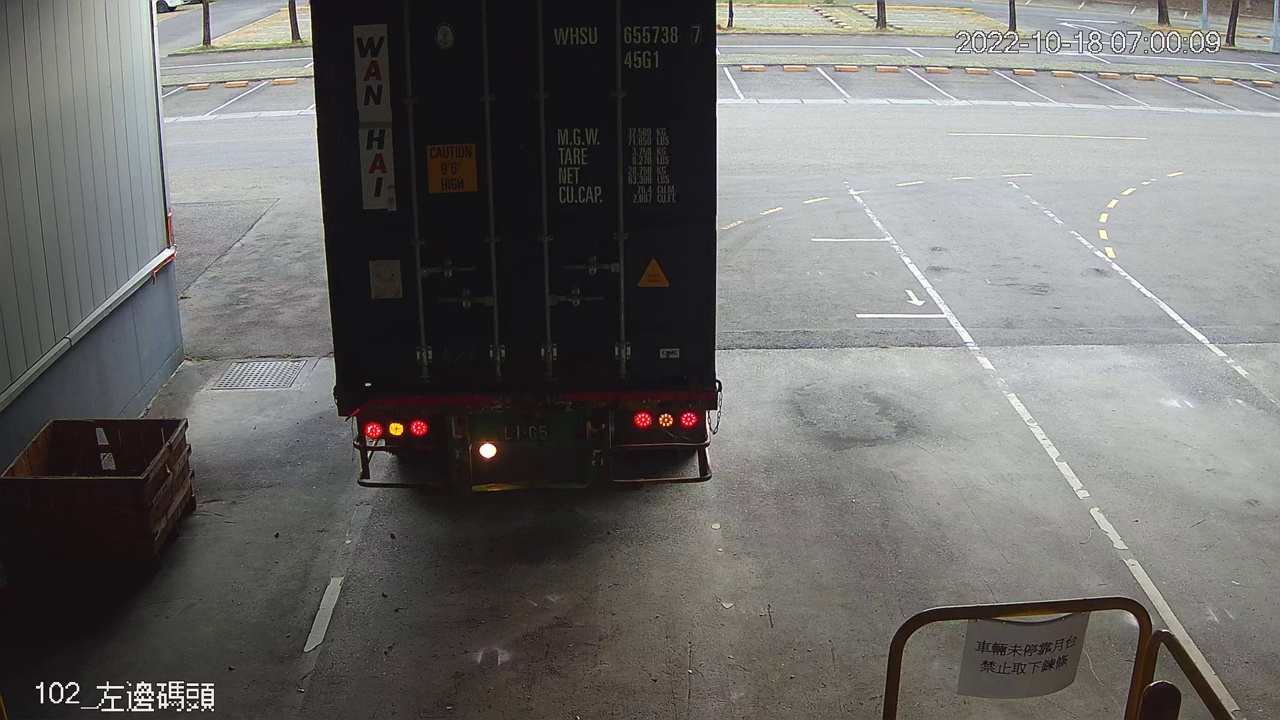container: (548, 22, 710, 75)
